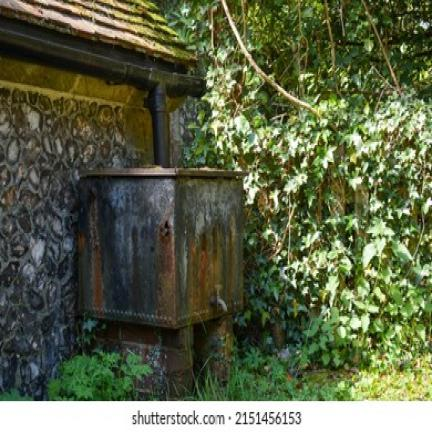karat: (78, 169, 243, 330)
